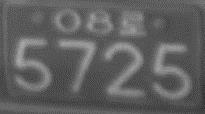0: (53, 7, 82, 34)
2: (104, 39, 144, 98)
5: (151, 42, 191, 100), (13, 36, 51, 93)
7: (57, 38, 95, 93)
8: (86, 9, 113, 35)
로: (118, 8, 147, 36)
